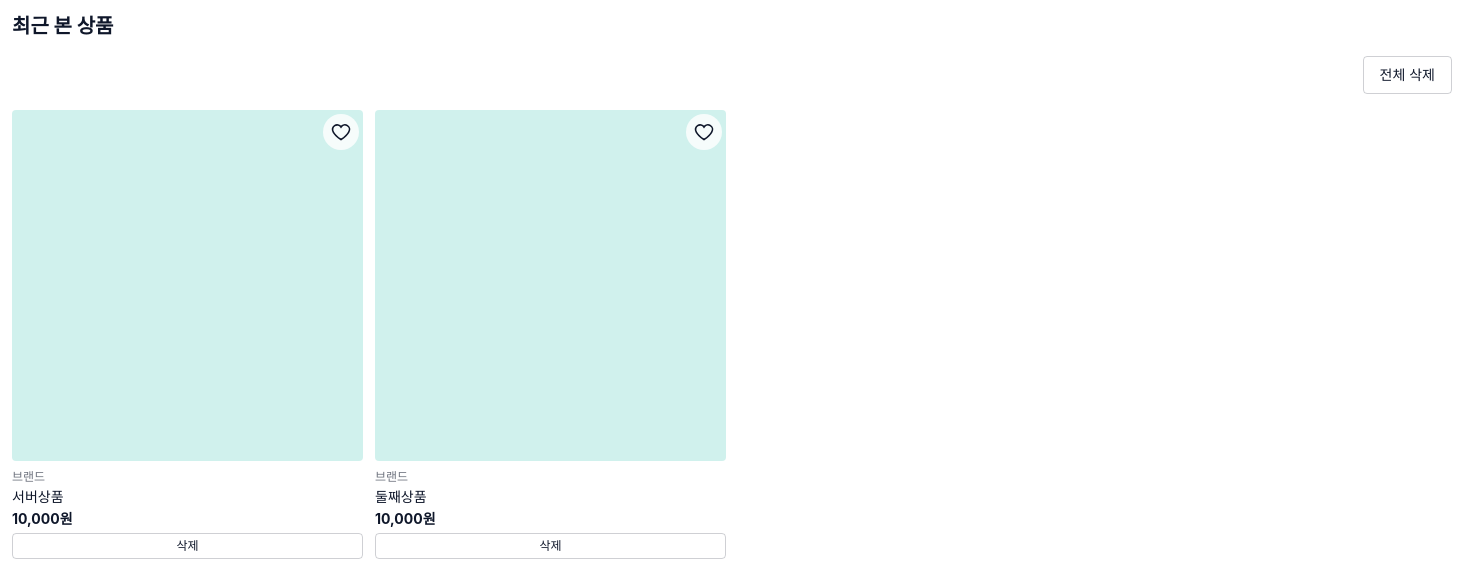
it: 회원은 카드별 삭제로 한 상품을 지운다
Expected: the text "서버상품" is shown, [12,488,64,505]
Click the button "삭제" below "서버상품" at (188, 546), box [12,533,363,559]
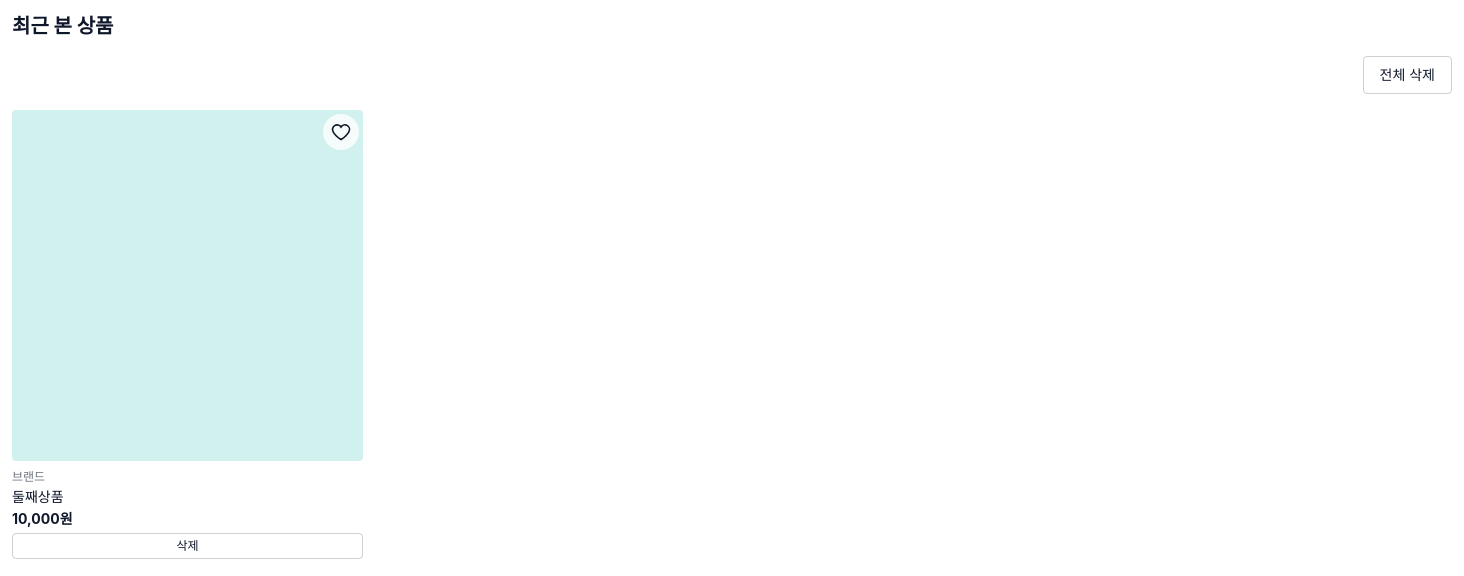
Expected: the text "둘째상품" is shown, [12,488,64,505]
Now the link "서버상품" is gone
